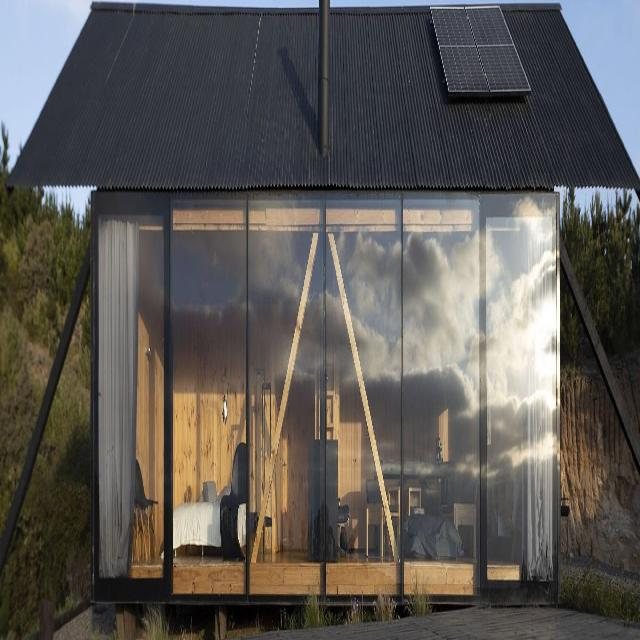door: (479, 194, 558, 608), (94, 189, 171, 599)
wall: (0, 5, 640, 608)
windows: (93, 191, 558, 600)
